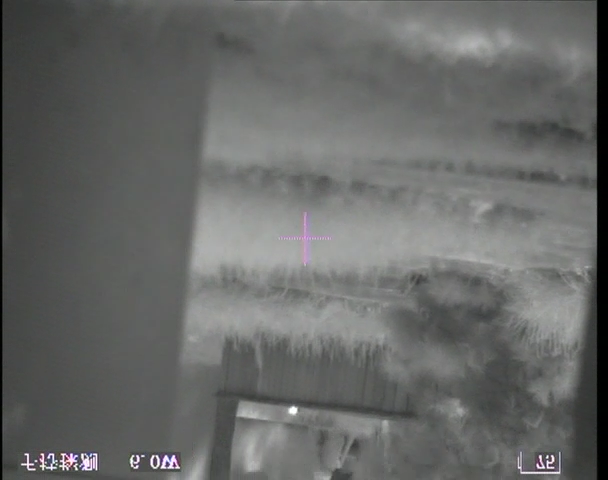my: (286, 404, 298, 415)
